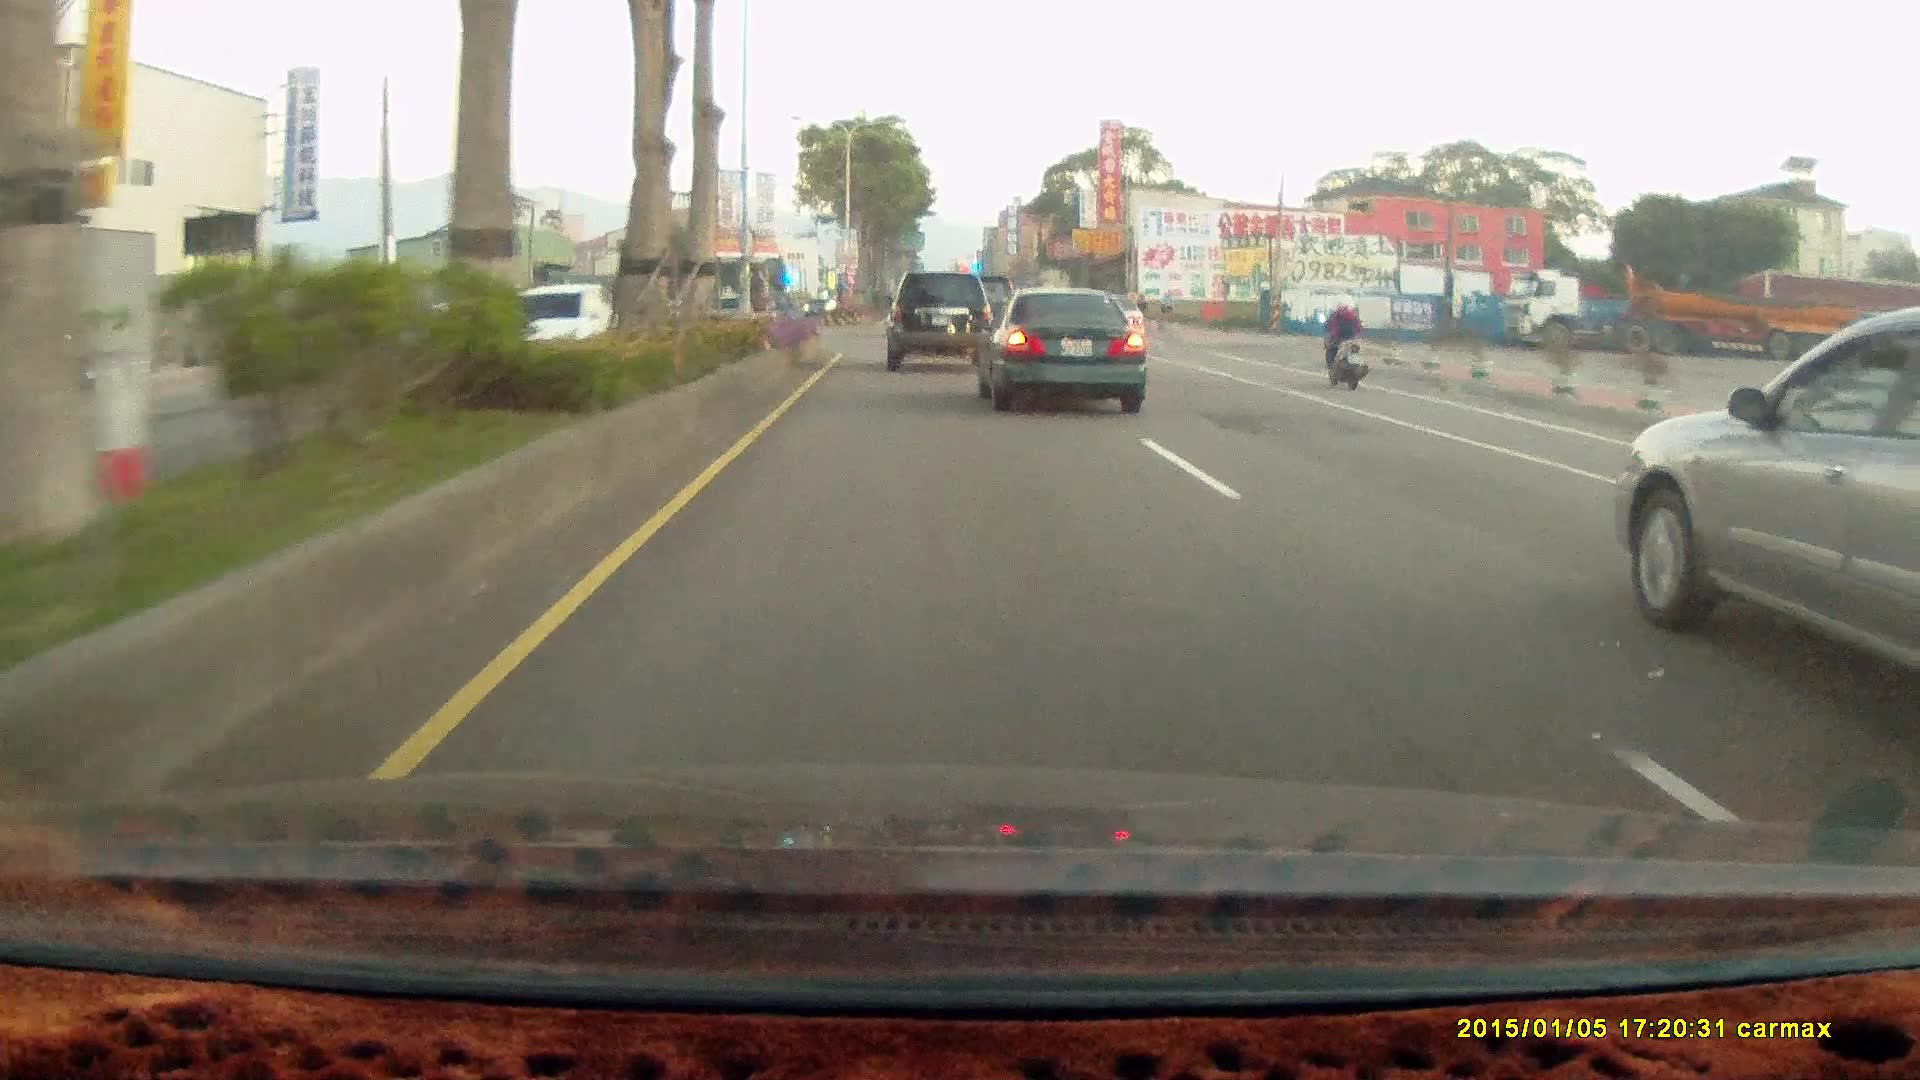rider: (1311, 289, 1377, 396), (1314, 292, 1370, 388)
vehicle: (1628, 304, 1920, 701), (1499, 264, 1860, 359), (971, 285, 1147, 413), (977, 289, 1147, 411), (887, 267, 997, 369), (882, 271, 991, 372), (492, 281, 617, 366)
